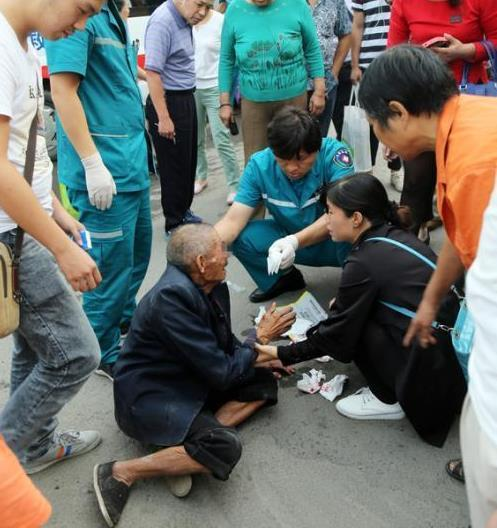fall: (92, 210, 297, 522)
